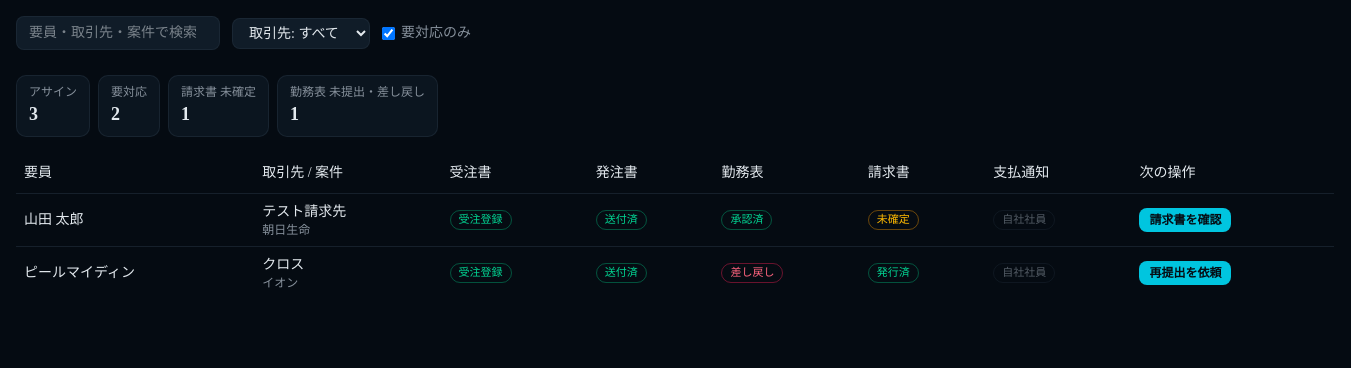
Scenario: 月別状況 › 「要対応のみ」を外すと、対応なしの行も出る。検索で絞れる
Check: the text "山田 太郎" is shown, box [16,193,254,246]
Click the checkbox labelled "要対応のみ": (388, 33) [382,26,395,40]
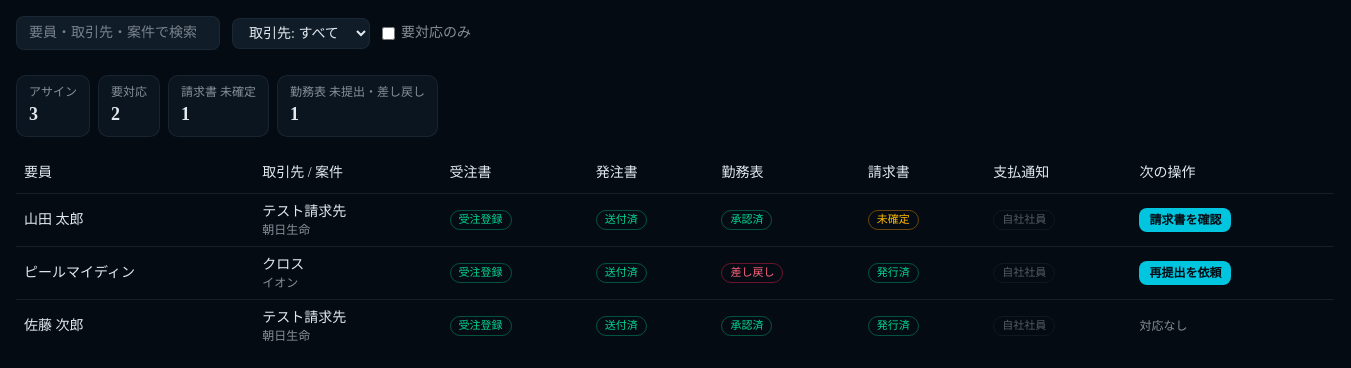
Check: the text "佐藤 次郎" is shown, box [16,299,254,352]
In the field with placeholder "要員・取引先・案件で検索": (118, 33) [16,16,220,50], type "ピール"
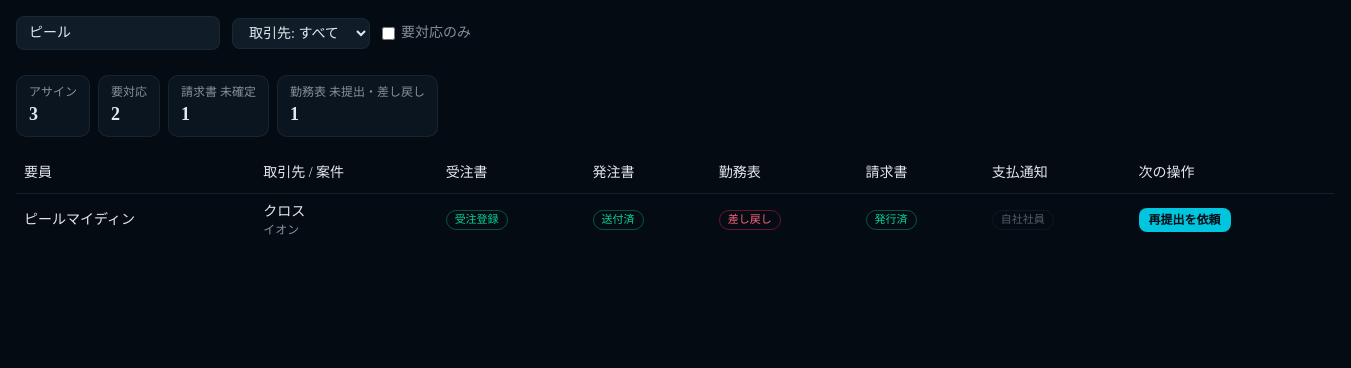
Check: the text "ピールマイディン" is shown, box [16,193,255,246]
Check: the text "山田 太郎" is gone
